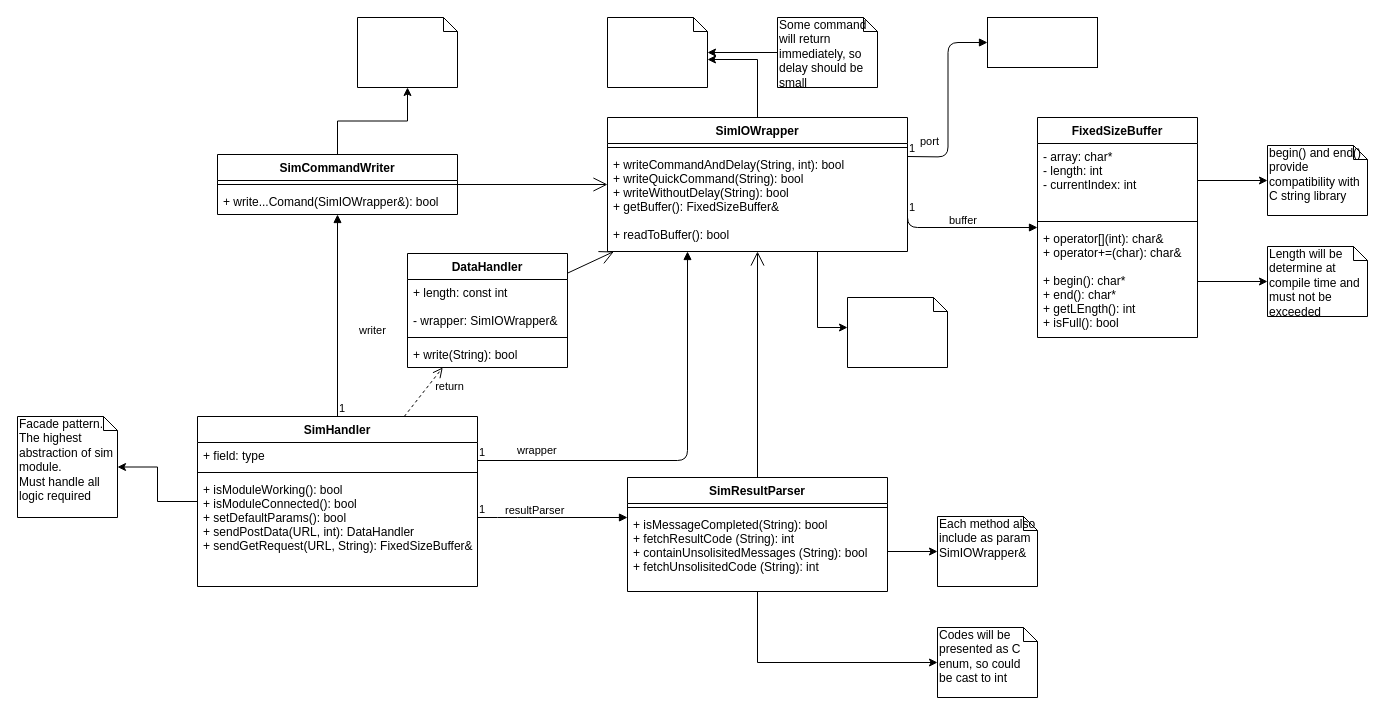
Image size: 1385x715. Some labels were removed from this diagram. The centre of each missing label's shape, as x and y in pixels:
Contains all required commands, some of them could be with parameters: point 407,52
First write command -> delay -> read to buffer -> decide what to do: point 657,52
Instead of String as param there could be const char&, r value reference: point 897,332
«interface» SerialWrite: point 1042,42
